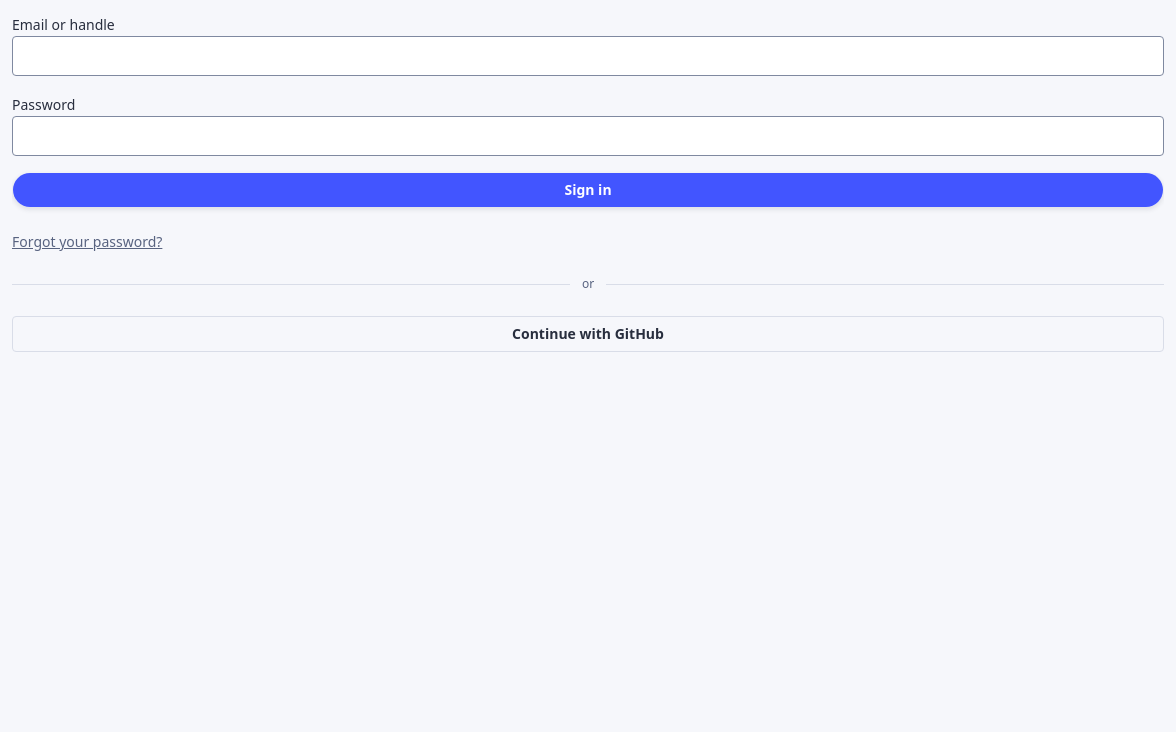
LoginForm › offers a resend when the account is unverified — Task 10 Step 6 confirmed the code survives
In the field labelled "Email or handle": (588, 56) [12,36,1164,76], type "dev@localhost.test"
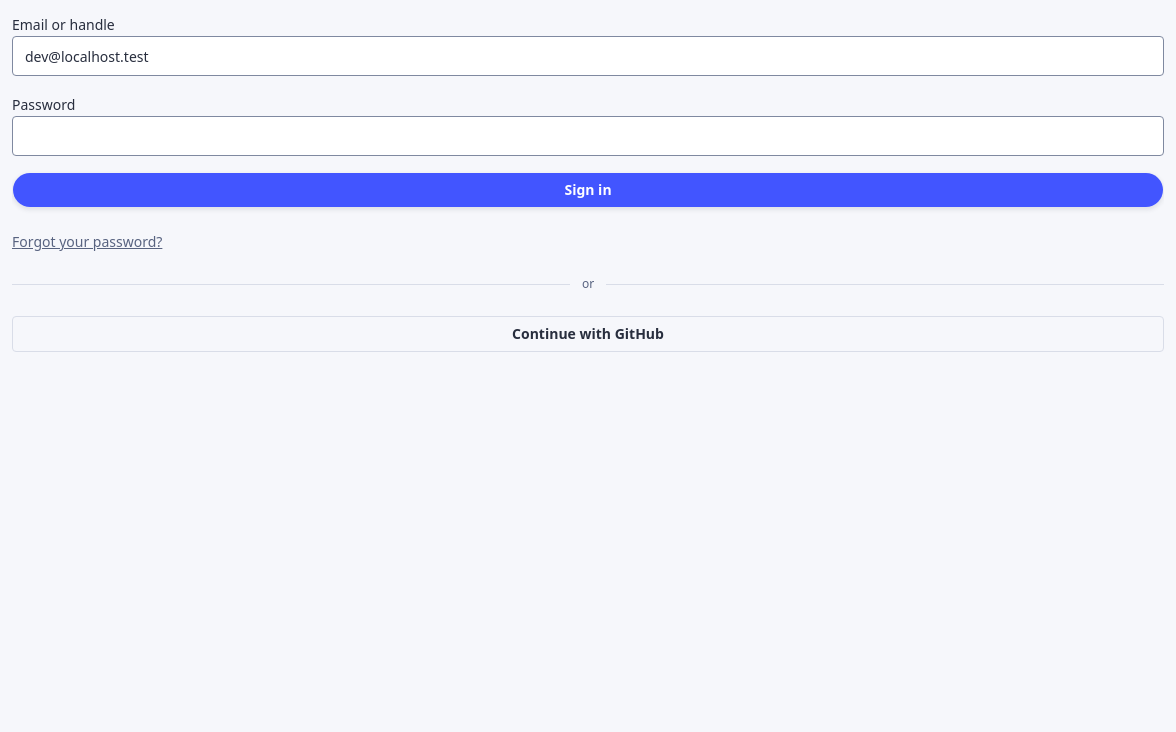
In the password field labelled "Password": (588, 136) [12,116,1164,156], type "correct-password"
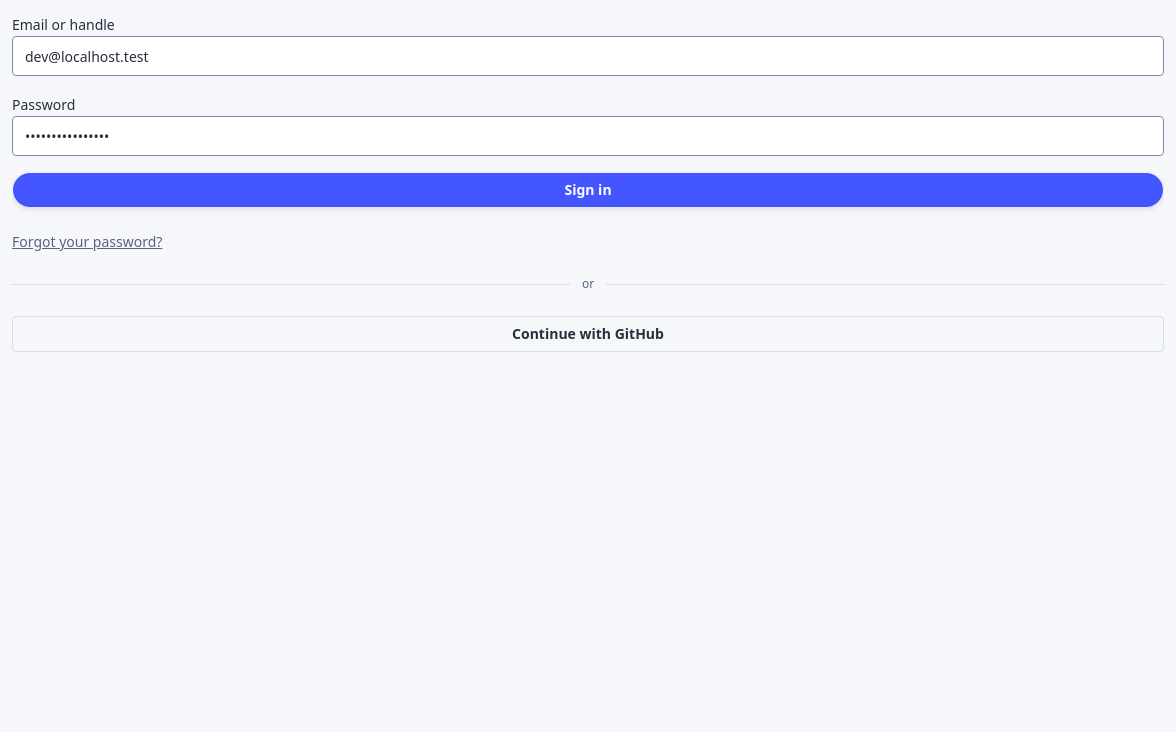
Click the button "Sign in": click(588, 190) [12,172,1164,208]
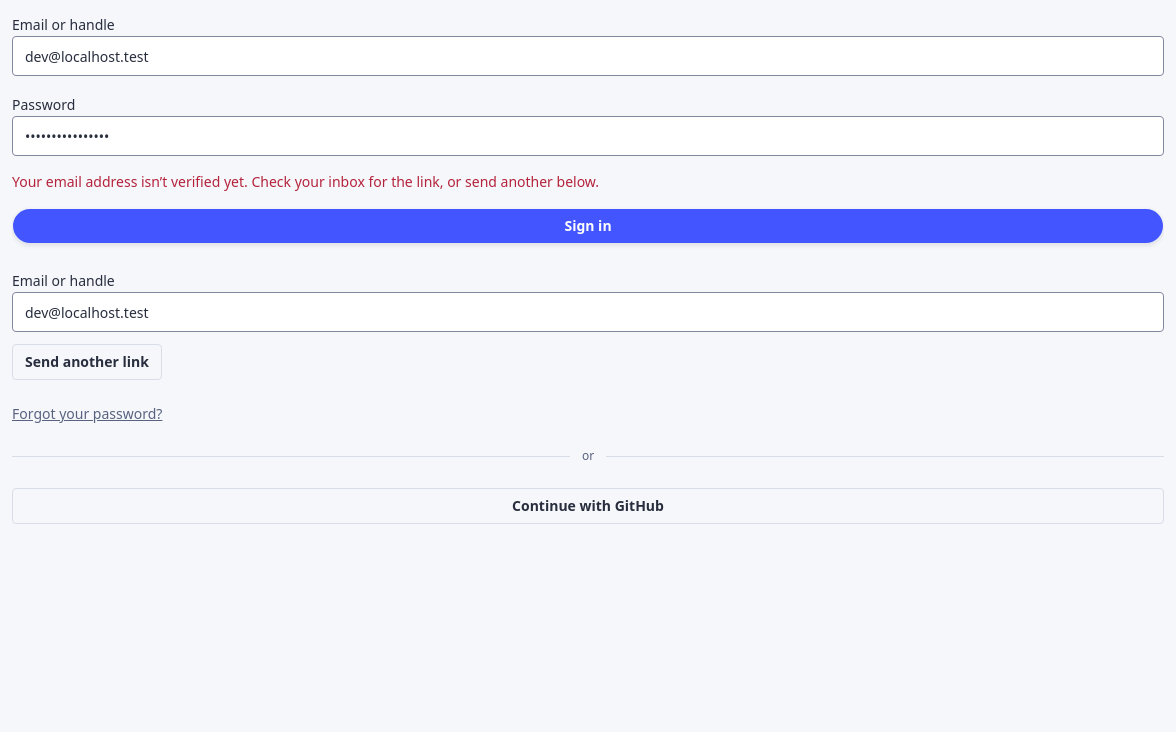
Expected: the message shows "isn.t verified yet", [12,172,599,191]
Expected: the button "Send another link" is shown, [12,344,162,380]
